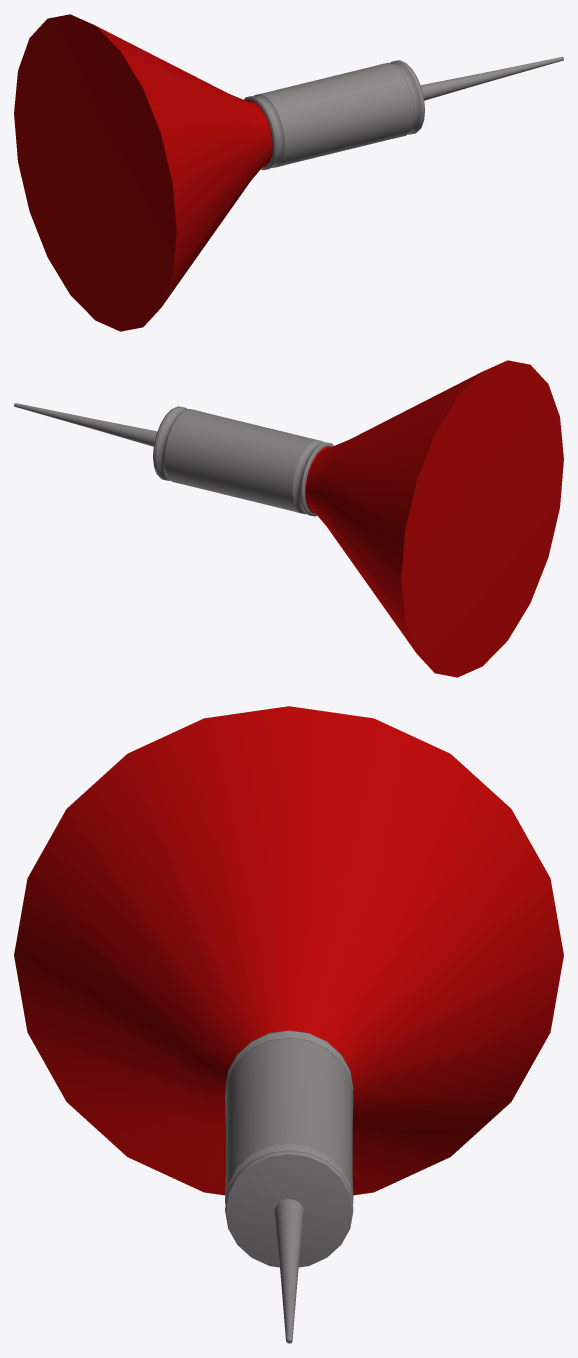
Rendered from dartRotated.fbx.
3 views of the same model, one above another, from view 1: azimuth 30°, elevation 25°; view 2: azimuth 150°, elevation 25°; view 3: azimuth 270°, elevation 25° (orthographic). The views are drawn at different scales.
Visible parts, largest first — view 1: pCone4; view 2: pCone4; view 3: pCone4.
Part boxes in pixels (bbox=[...]): pCone4: bbox=[14, 14, 563, 331]; pCone4: bbox=[14, 360, 563, 677]; pCone4: bbox=[14, 706, 563, 1343].
Bounding box in the file's own units: 17.74 × 10.59 × 10.59.
